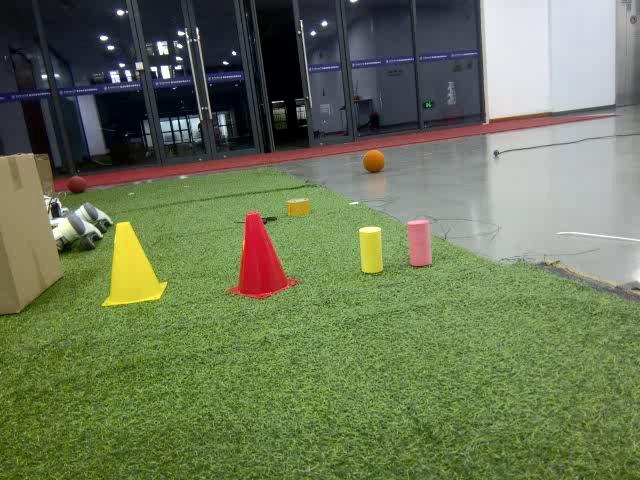orange_ball: (361, 149, 386, 174)
red_ball: (68, 174, 86, 195)
red_barrel: (228, 209, 300, 306)
red_cylinder: (406, 219, 434, 269)
yellow_barrel: (96, 218, 168, 309)
yellow_cylinder: (358, 225, 387, 273)
